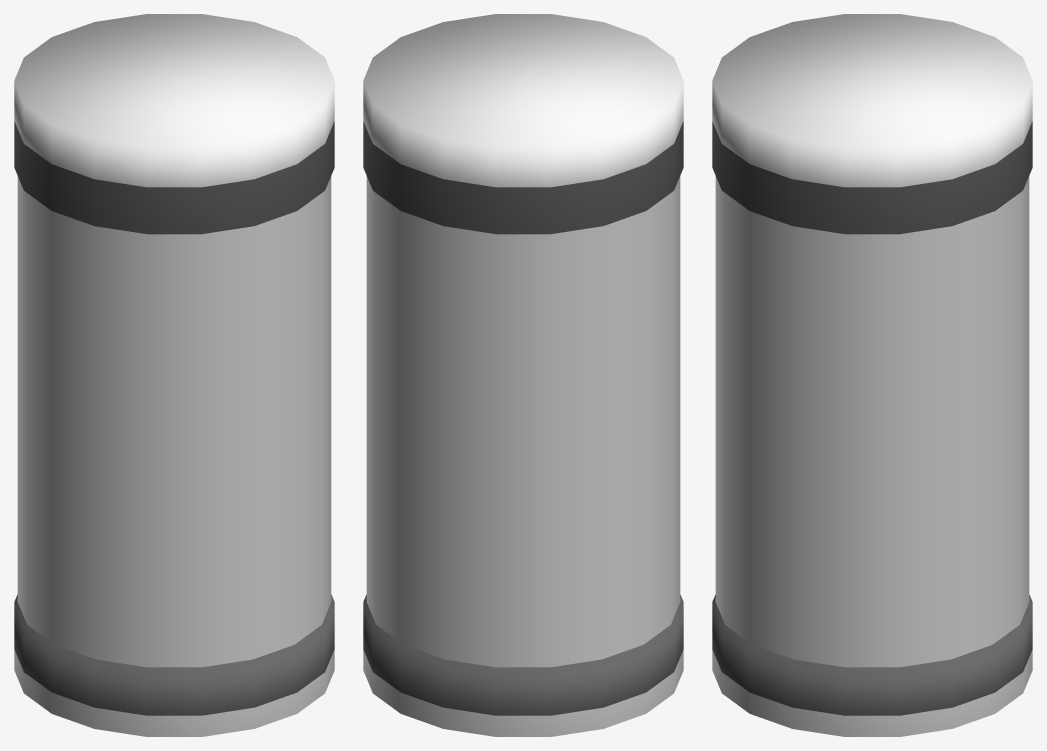
Rendered from the_gun_holder.fbx.
3 views of the same model, side by side, from view 1: azimuth 30°, elevation 25°; view 2: azimuth 150°, elevation 25°; view 3: azimuth 270°, elevation 25° (orthographic).
Visible parts, largest first — view 1: Cylinder.016; view 2: Cylinder.016; view 3: Cylinder.016.
Boxes of the visible parts, <box> form: Cylinder.016: <box>14,14,334,736</box>; Cylinder.016: <box>363,14,683,736</box>; Cylinder.016: <box>712,14,1032,736</box>.
Size of the model in its own units: 1.07 by 2.21 by 1.09.
